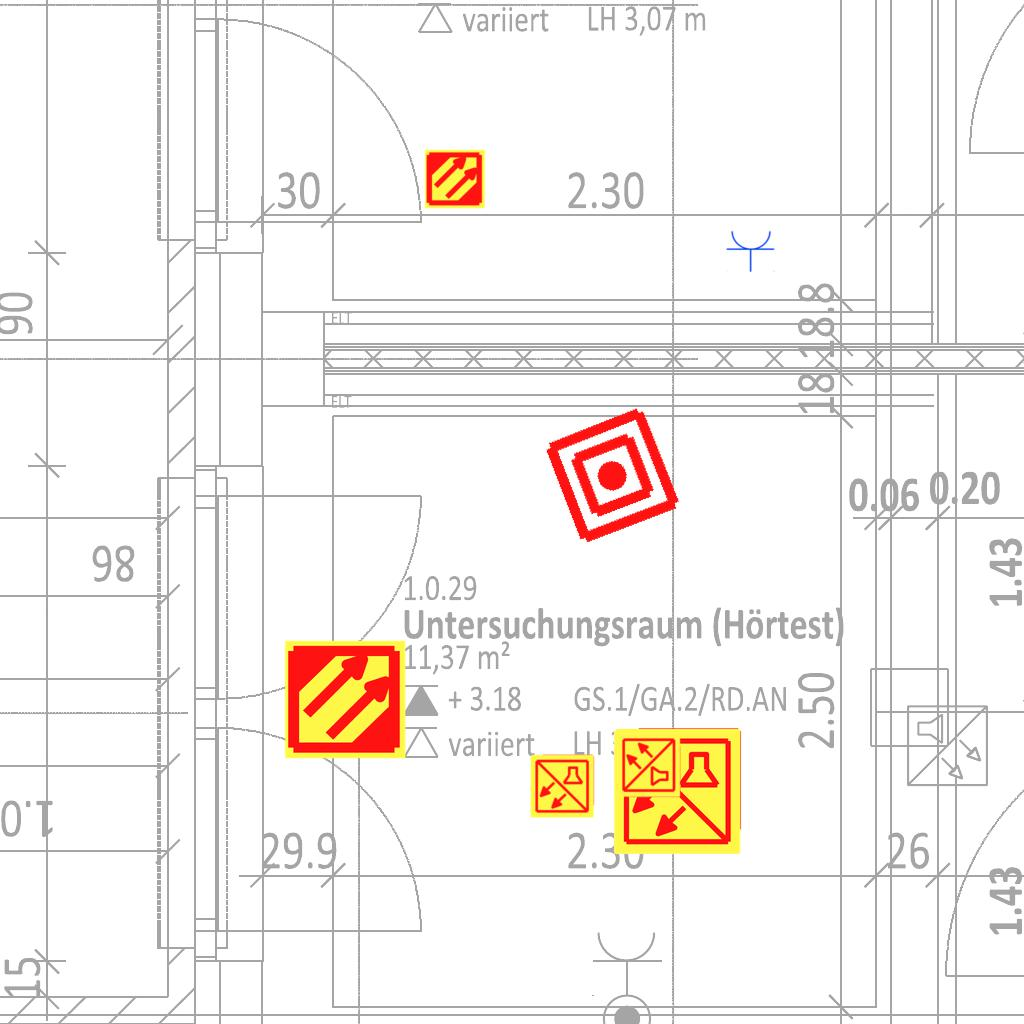ASR_Ansaugrauchmelder: (283, 637, 408, 762), (424, 148, 486, 210)
NAM-Nichtautomatischer_Melder: (539, 402, 686, 549)
OKW_Multisensormelder_(Kombination_optischer_Rauch-Kahlenmonoxid_Waerme-Melder): (611, 725, 743, 857), (529, 753, 595, 819), (616, 732, 682, 798)
Schukosteckdose_einfach: (726, 229, 776, 272)
